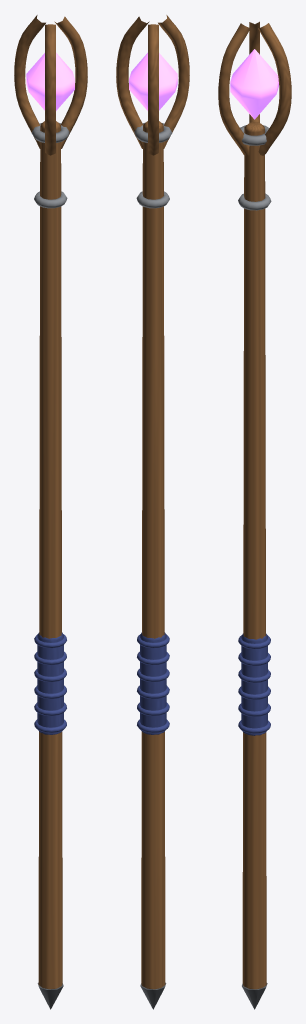
The model's file is staff.glb.
3 renders of one model, left to right at view 1: azimuth 30°, elevation 25°; view 2: azimuth 150°, elevation 25°; view 3: azimuth 330°, elevation 25°, orthographic.
Visible parts, largest first — view 1: staff, grip; view 2: staff, grip; view 3: staff, grip.
Boxes of the visible parts, x1,y1,x2,y2 form: staff: (14,15,87,1009); grip: (34,632,66,734); staff: (116,15,189,1009); grip: (137,632,169,734); staff: (218,21,291,1009); grip: (238,633,270,735).
Size of the model in its own units: 0.1183 by 1.95 by 0.1301.
Materials: 5 (4 with a texture image).
